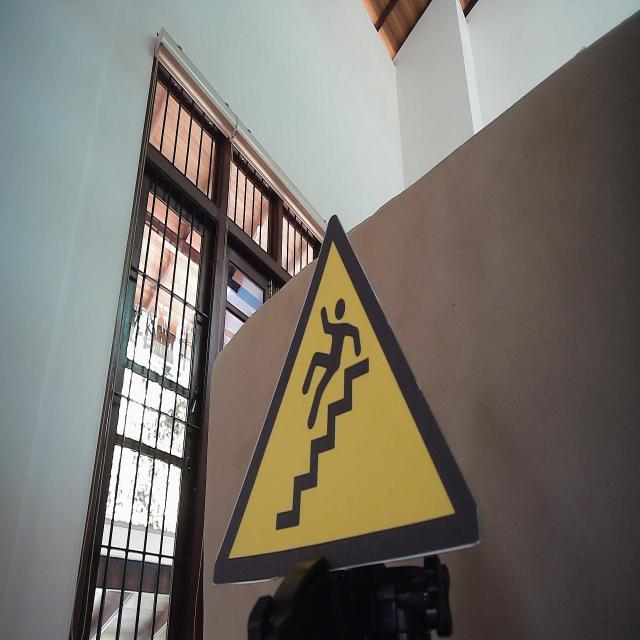stairs: (212, 211, 482, 588)
